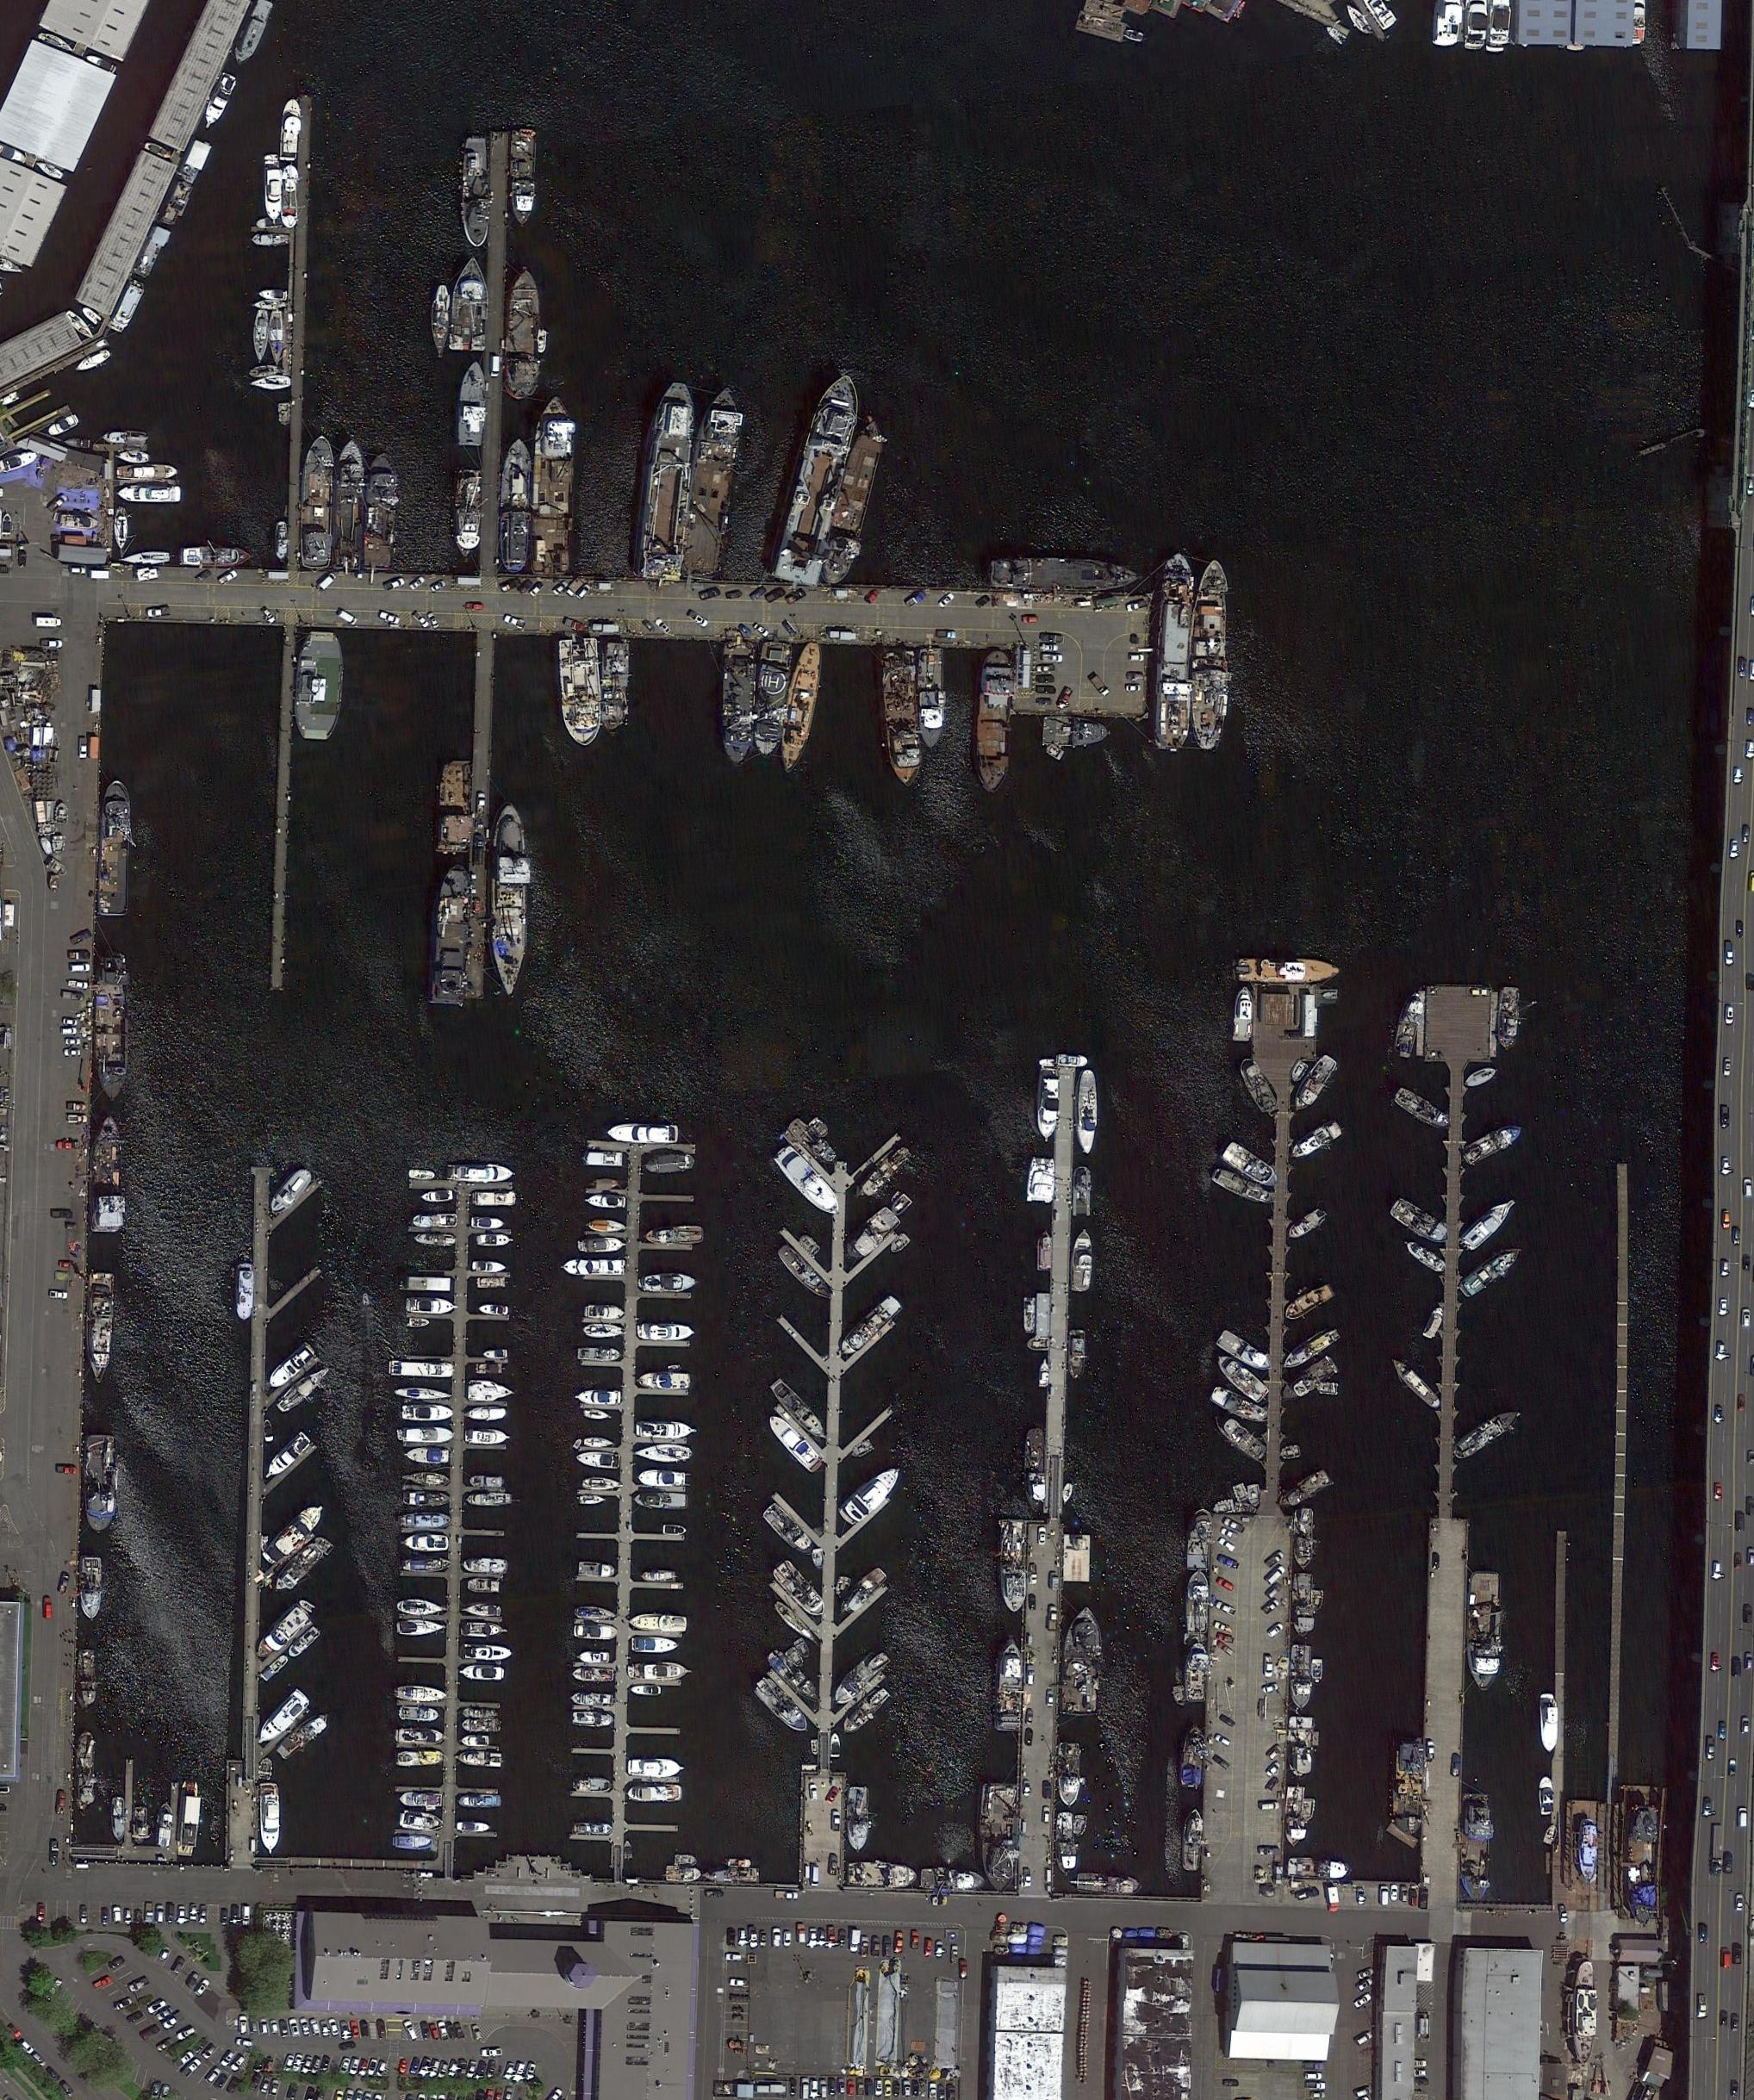harbor: (1197, 978, 1342, 1863), (750, 1108, 916, 1786), (1389, 984, 1503, 1863), (571, 1135, 695, 1859), (387, 1176, 510, 1852), (222, 1165, 326, 1845), (1012, 1053, 1080, 1882), (236, 94, 312, 569), (473, 133, 515, 572), (267, 624, 304, 991), (1607, 1163, 1628, 1786), (464, 631, 499, 996), (1552, 1531, 1567, 1797)
ship: (771, 366, 869, 591), (674, 384, 750, 579), (815, 412, 892, 591), (635, 380, 700, 581), (529, 394, 576, 576), (1187, 555, 1229, 753), (490, 802, 531, 999), (1154, 551, 1192, 752), (773, 638, 829, 776), (880, 647, 927, 792), (428, 867, 473, 1006), (770, 1141, 846, 1223), (990, 555, 1143, 595), (291, 631, 346, 743), (974, 649, 1014, 797), (747, 640, 794, 760), (92, 951, 129, 1101), (497, 438, 536, 574), (330, 438, 368, 570), (503, 269, 541, 401), (300, 434, 337, 570), (1059, 1606, 1103, 1718), (96, 778, 131, 916), (558, 638, 602, 748), (838, 1460, 906, 1530), (262, 1498, 330, 1568), (768, 1374, 832, 1448), (1450, 1404, 1524, 1465), (836, 1294, 904, 1359), (721, 640, 756, 766), (361, 452, 398, 570), (89, 1116, 126, 1235), (1456, 1242, 1525, 1303), (981, 1783, 1019, 1892), (763, 1645, 826, 1711), (1468, 1570, 1501, 1694), (768, 1558, 831, 1622), (1625, 1805, 1658, 1926), (84, 1273, 119, 1387), (750, 1674, 812, 1739), (775, 1242, 836, 1306), (1387, 1193, 1456, 1251), (449, 258, 490, 351), (435, 759, 475, 855), (831, 1647, 892, 1709), (852, 1142, 913, 1203), (1459, 1193, 1518, 1256), (272, 1360, 335, 1420), (766, 1411, 824, 1476), (784, 1115, 845, 1174), (251, 1605, 312, 1664), (82, 1434, 117, 1535), (841, 1203, 901, 1263), (761, 1500, 819, 1561), (253, 1688, 311, 1749), (274, 1706, 335, 1763), (1459, 1793, 1490, 1903), (1567, 1957, 1599, 2067), (1288, 1050, 1339, 1118), (1220, 1139, 1283, 1193), (1391, 1085, 1457, 1135), (269, 1540, 326, 1598), (461, 138, 490, 249), (1389, 1353, 1443, 1415), (1278, 1353, 1340, 1406), (1393, 1742, 1426, 1838), (1215, 1327, 1278, 1378), (1279, 1324, 1342, 1374), (1461, 1120, 1527, 1167), (1215, 1350, 1271, 1406), (508, 131, 539, 228), (1236, 958, 1344, 985), (1211, 1165, 1278, 1210), (456, 358, 489, 448), (1209, 1383, 1274, 1428), (836, 1565, 888, 1620), (916, 647, 944, 752), (993, 1634, 1023, 1732), (1236, 1053, 1281, 1116), (839, 1685, 892, 1739), (600, 642, 630, 736), (771, 1599, 824, 1652), (454, 469, 483, 560), (265, 1343, 318, 1394), (262, 1432, 312, 1484), (267, 1165, 316, 1219), (1288, 1118, 1344, 1165), (1000, 1519, 1028, 1613), (199, 70, 239, 133), (129, 223, 173, 281), (105, 279, 148, 335), (1278, 1469, 1332, 1512), (1393, 991, 1426, 1060), (1222, 1416, 1269, 1463), (1283, 1282, 1335, 1324), (152, 176, 194, 228), (1044, 717, 1113, 748), (1023, 1427, 1045, 1514), (1075, 1069, 1098, 1155), (176, 1779, 201, 1858), (429, 283, 454, 361), (73, 1730, 96, 1814), (848, 1863, 918, 1889), (1401, 1237, 1447, 1277), (175, 140, 213, 187), (1073, 10, 1127, 42), (258, 1783, 281, 1856), (1286, 1716, 1312, 1779), (607, 1122, 679, 1144), (1496, 985, 1520, 1052), (846, 1786, 871, 1852), (1286, 1858, 1353, 1882), (1077, 1872, 1143, 1896), (1056, 1741, 1080, 1807), (1070, 1228, 1094, 1294), (79, 1556, 103, 1622), (1183, 1643, 1209, 1704), (1180, 1727, 1206, 1788), (1290, 1573, 1314, 1638), (1288, 1645, 1312, 1709), (1187, 1509, 1213, 1568), (1286, 1205, 1328, 1242), (922, 1868, 988, 1891), (178, 546, 250, 567), (1024, 1156, 1056, 1203), (1038, 1066, 1058, 1142), (1187, 1570, 1209, 1634), (1063, 1533, 1093, 1582), (1182, 1809, 1204, 1872), (279, 98, 300, 164), (1292, 1509, 1314, 1570), (1056, 1812, 1077, 1877), (635, 1420, 700, 1441), (447, 1165, 517, 1184), (1285, 1786, 1305, 1849), (75, 1648, 96, 1711), (632, 1442, 695, 1463), (628, 1756, 686, 1779), (61, 309, 98, 344), (286, 1626, 321, 1662), (33, 28, 75, 58), (641, 1273, 700, 1294), (389, 1360, 454, 1380), (1344, 2, 1377, 38), (1232, 985, 1253, 1043), (73, 347, 113, 377), (1539, 1692, 1559, 1753), (637, 1324, 698, 1343), (703, 1865, 759, 1885), (634, 1662, 693, 1681), (1579, 1819, 1597, 1884), (281, 164, 298, 228), (562, 1259, 627, 1277), (630, 1613, 688, 1633), (646, 1226, 703, 1245), (117, 464, 180, 481), (119, 485, 182, 502), (265, 153, 281, 223), (468, 1380, 515, 1402), (644, 1155, 695, 1176), (405, 1298, 459, 1317), (237, 1263, 255, 1322), (1463, 1064, 1499, 1092), (634, 1493, 689, 1510), (1072, 1167, 1091, 1217), (253, 310, 271, 365), (401, 1404, 456, 1422), (1421, 1306, 1447, 1341), (45, 413, 80, 440), (403, 1427, 456, 1444), (396, 1685, 449, 1702), (400, 1512, 452, 1530), (639, 1373, 689, 1390), (398, 1619, 449, 1636), (260, 1653, 290, 1683), (628, 1786, 684, 1802), (248, 373, 293, 392), (574, 1451, 620, 1470), (1068, 1331, 1086, 1380), (403, 1275, 452, 1292), (464, 1643, 513, 1660), (269, 310, 284, 365), (401, 1812, 445, 1831), (84, 52, 120, 75), (119, 549, 171, 565), (155, 1802, 173, 1849), (632, 1636, 679, 1653), (462, 1558, 510, 1575), (396, 1599, 447, 1615), (396, 1749, 447, 1765), (466, 1428, 511, 1446), (887, 1191, 915, 1219), (461, 1622, 510, 1638), (403, 1490, 452, 1505), (396, 1728, 445, 1744), (405, 1448, 449, 1465), (400, 1791, 443, 1809), (35, 159, 68, 181), (403, 1470, 450, 1486), (639, 1470, 686, 1486), (579, 1237, 627, 1252), (585, 1149, 623, 1169), (885, 1231, 913, 1258), (1286, 1057, 1312, 1085), (461, 1664, 503, 1681), (394, 1388, 454, 1401), (141, 140, 173, 162), (110, 1797, 126, 1842), (576, 1390, 621, 1406), (576, 1347, 621, 1362), (572, 1624, 618, 1640), (405, 1535, 450, 1551), (59, 513, 99, 530), (572, 1776, 613, 1793), (574, 1711, 614, 1728), (113, 506, 129, 549), (457, 1751, 501, 1767), (848, 1437, 876, 1462), (798, 1231, 822, 1259), (464, 1493, 513, 1507), (403, 1558, 452, 1572), (1021, 1296, 1038, 1334), (1037, 1230, 1052, 1272), (464, 1406, 506, 1422), (583, 1324, 625, 1340), (581, 1476, 623, 1491), (1323, 23, 1349, 47), (579, 1561, 616, 1578), (44, 855, 70, 879), (412, 1233, 457, 1247), (412, 1214, 457, 1228), (1538, 1776, 1553, 1816), (585, 1305, 625, 1320), (586, 1195, 627, 1210), (462, 1718, 503, 1734), (667, 1865, 702, 1882), (571, 1692, 614, 1706), (574, 1606, 618, 1620), (459, 1795, 503, 1809), (806, 1116, 831, 1141), (784, 1645, 806, 1671), (274, 520, 288, 562), (393, 1835, 435, 1849), (133, 1807, 147, 1847), (572, 1667, 613, 1681), (574, 1823, 614, 1837), (400, 1708, 440, 1722), (590, 1219, 628, 1233), (251, 232, 288, 246), (1042, 743, 1066, 764), (834, 1575, 853, 1601), (1169, 1683, 1189, 1709), (1230, 1481, 1250, 1507), (469, 1578, 501, 1594), (471, 1259, 506, 1273), (80, 305, 103, 326), (792, 1636, 812, 1660), (476, 1235, 515, 1247), (462, 1605, 501, 1617), (117, 450, 150, 464), (421, 1190, 454, 1203), (1541, 1821, 1559, 1847), (1246, 1483, 1264, 1509), (1058, 1053, 1089, 1067), (257, 288, 288, 302), (630, 1683, 661, 1697), (1072, 1814, 1089, 1838), (641, 1570, 675, 1582), (1037, 1360, 1051, 1390), (63, 436, 92, 450), (407, 1169, 436, 1183), (579, 1650, 609, 1664), (724, 1856, 750, 1872), (258, 1755, 274, 1781), (469, 1476, 503, 1488), (476, 1305, 510, 1317), (457, 1821, 490, 1833), (276, 403, 293, 426), (475, 1362, 503, 1376), (1026, 1336, 1051, 1352), (473, 1217, 504, 1230), (1215, 1498, 1236, 1516), (251, 300, 286, 310), (101, 431, 127, 445), (476, 1277, 506, 1289), (585, 1437, 614, 1449), (1309, 1591, 1325, 1613), (54, 802, 70, 825), (1318, 1381, 1340, 1397), (1124, 28, 1147, 44), (583, 1409, 611, 1422), (461, 1735, 489, 1748), (255, 216, 283, 228), (810, 1549, 826, 1570), (1281, 1444, 1302, 1460), (1061, 1481, 1075, 1503), (51, 835, 66, 855), (298, 1598, 318, 1613), (829, 1734, 841, 1758), (0, 513, 12, 537), (536, 328, 548, 352), (579, 1495, 607, 1505), (675, 1854, 698, 1866), (35, 823, 56, 835), (483, 1348, 508, 1359), (265, 1420, 276, 1442), (663, 1526, 686, 1537), (49, 874, 61, 893), (808, 1737, 820, 1755), (407, 1319, 431, 1327), (1323, 991, 1339, 1003), (623, 1840, 632, 1861), (1040, 1057, 1056, 1067), (361, 1292, 370, 1306)
